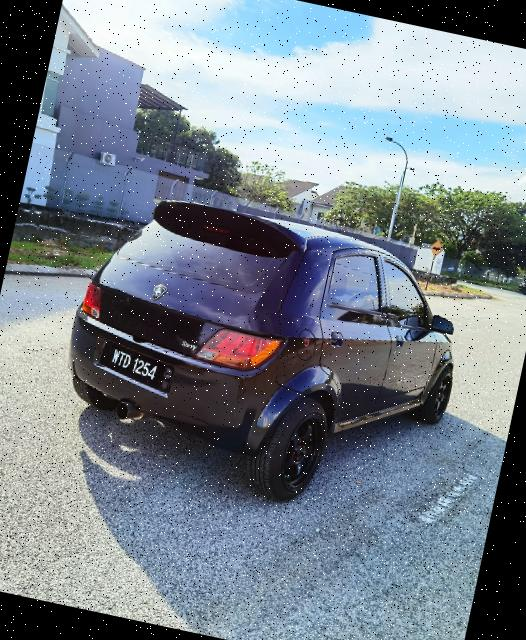License_Plate: (100, 340, 171, 387)
